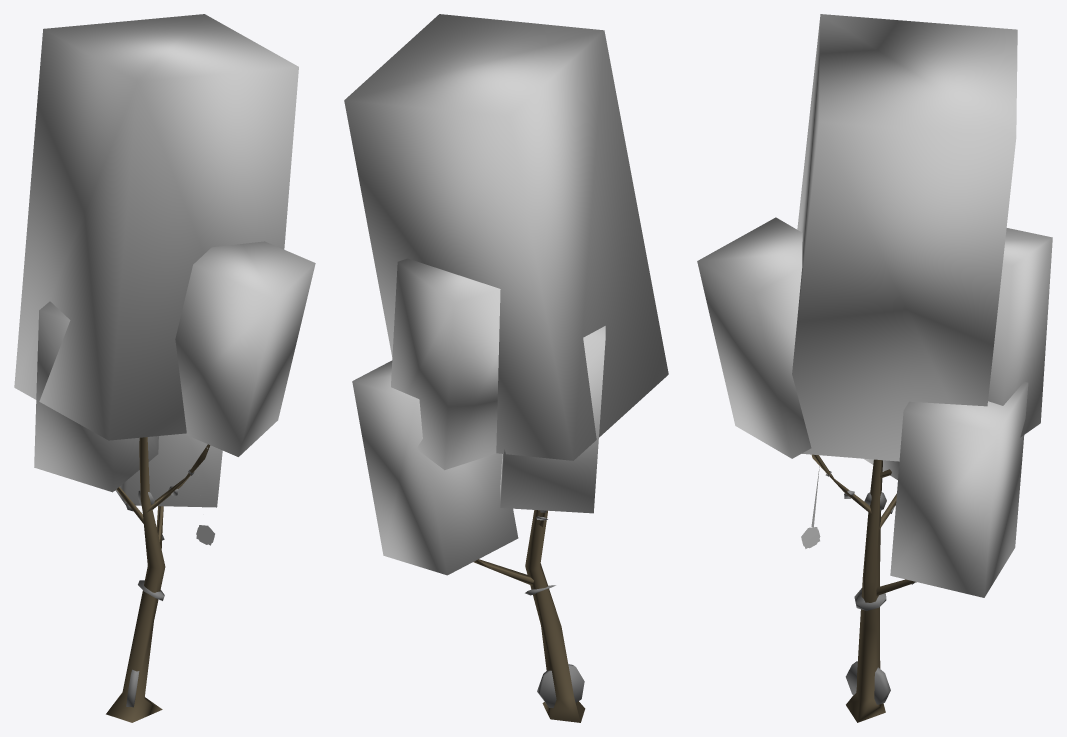
The model's file is sm_tree_clockwork_03_LOD4.fbx.
The picture shows the model from 3 angles, left to right: view 1: azimuth 30°, elevation 25°; view 2: azimuth 150°, elevation 25°; view 3: azimuth 270°, elevation 25°; orthographic projection. The views are drawn at different scales.
Parts seen in each view (by area): view 1: sm_tree_clockwork_03_LOD4; view 2: sm_tree_clockwork_03_LOD4; view 3: sm_tree_clockwork_03_LOD4.
Part boxes in pixels (x1,y1,x2,y2): sm_tree_clockwork_03_LOD4: [14, 14, 315, 722]; sm_tree_clockwork_03_LOD4: [344, 14, 668, 722]; sm_tree_clockwork_03_LOD4: [697, 14, 1052, 722].
Bounding box in the file's own units: 5.19 × 7.19 × 15.33.
